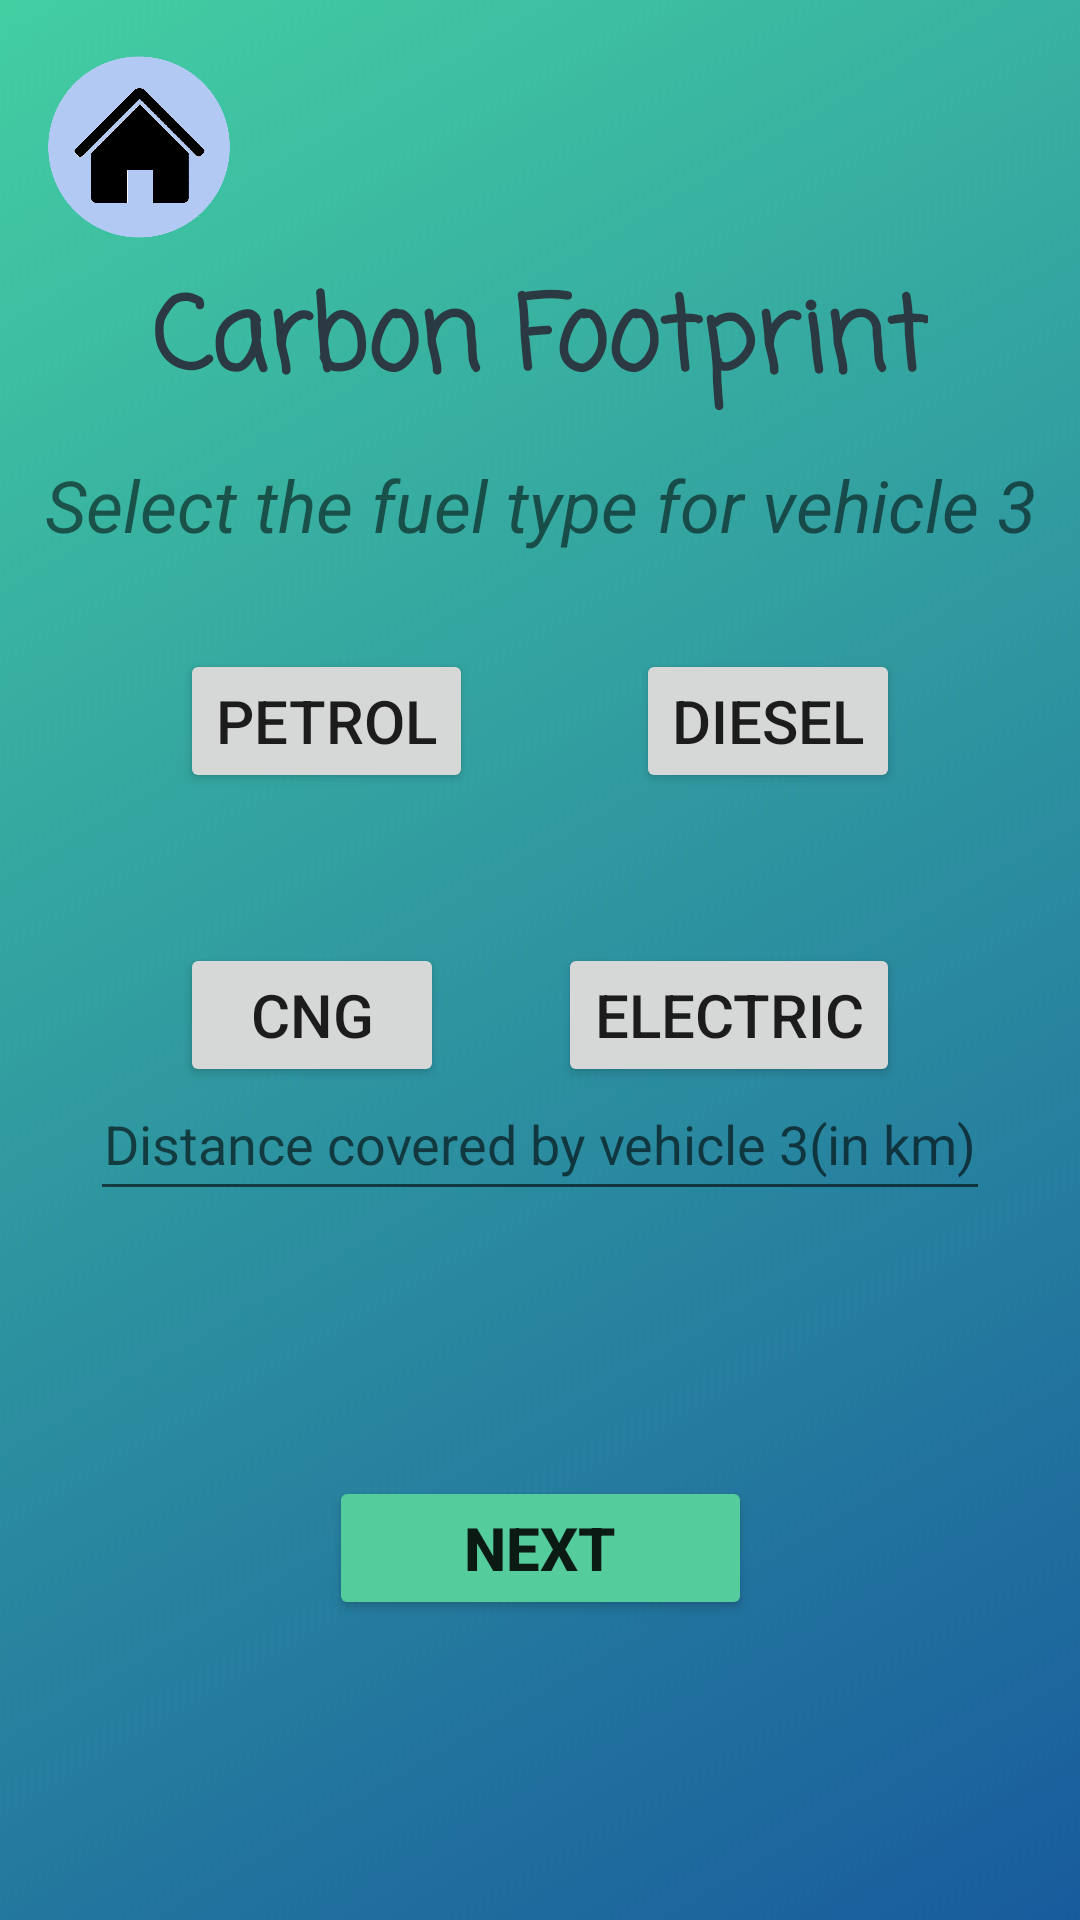

Named icons in this screenshot (1080px×1920px) and their bounding boxes, BBox(x1, y1, x2, y2):
home: BBox(48, 56, 230, 238)
